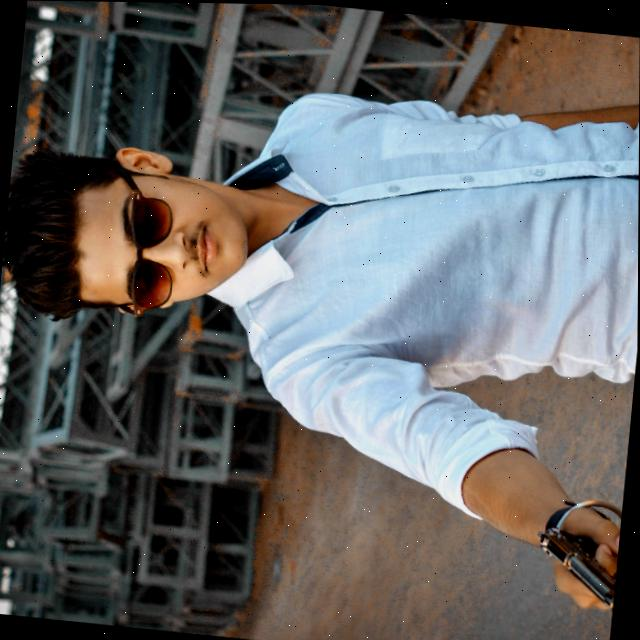pistol: (534, 515, 617, 614)
